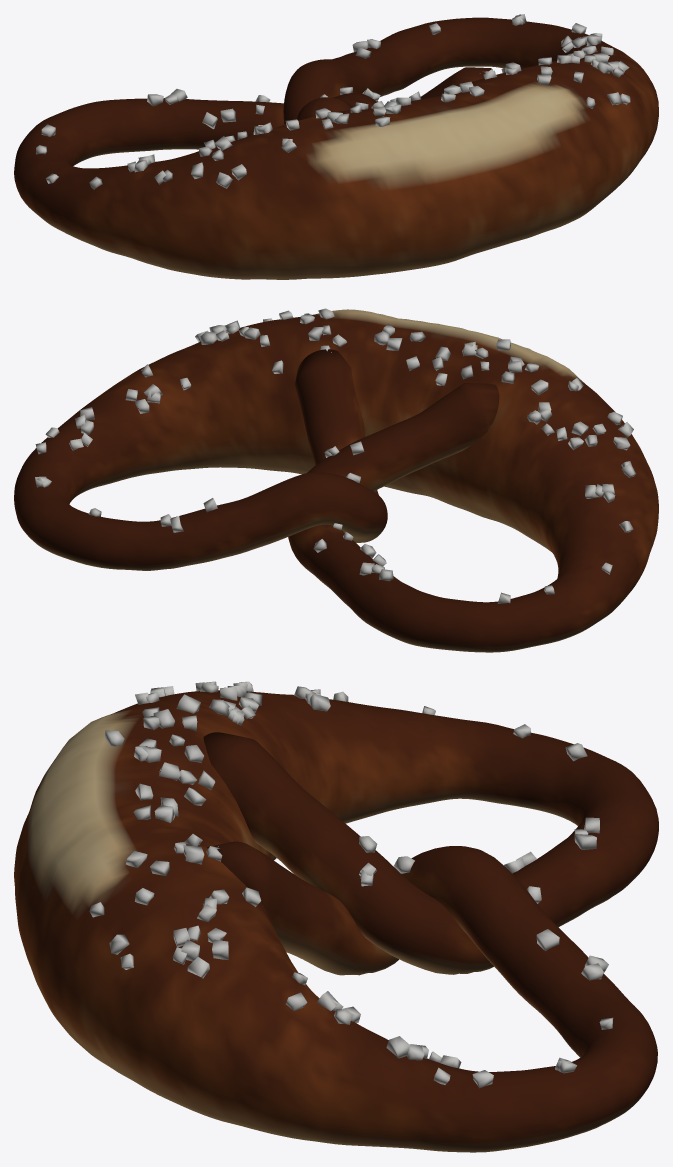
File: brezel.glb
3 renders of one model, top to bottom at view 1: azimuth 30°, elevation 25°; view 2: azimuth 150°, elevation 25°; view 3: azimuth 270°, elevation 25°, orthographic. The views are drawn at different scales.
Visible parts, largest first — view 1: brezel; view 2: brezel; view 3: brezel.
Boxes of the visible parts, bbox=[...] form: brezel: bbox=[14, 14, 658, 279]; brezel: bbox=[14, 308, 658, 652]; brezel: bbox=[14, 681, 658, 1152].
Size of the model in its own units: 0.15 by 0.0344 by 0.105.
